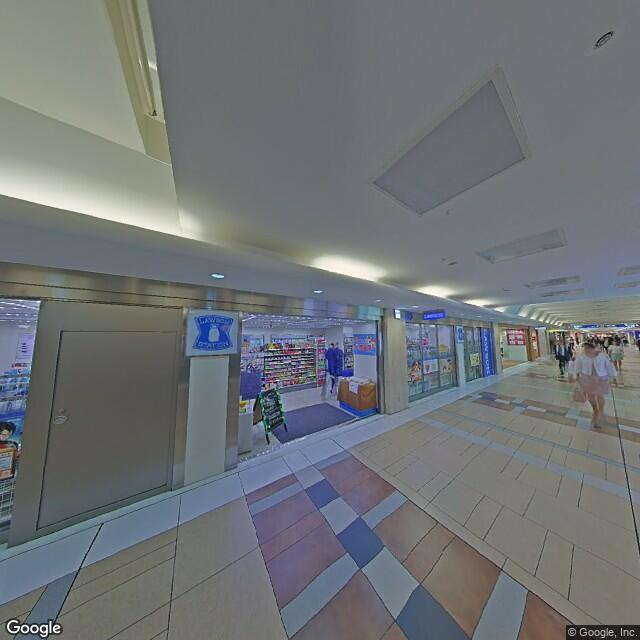lawson: (193, 307, 233, 357)
